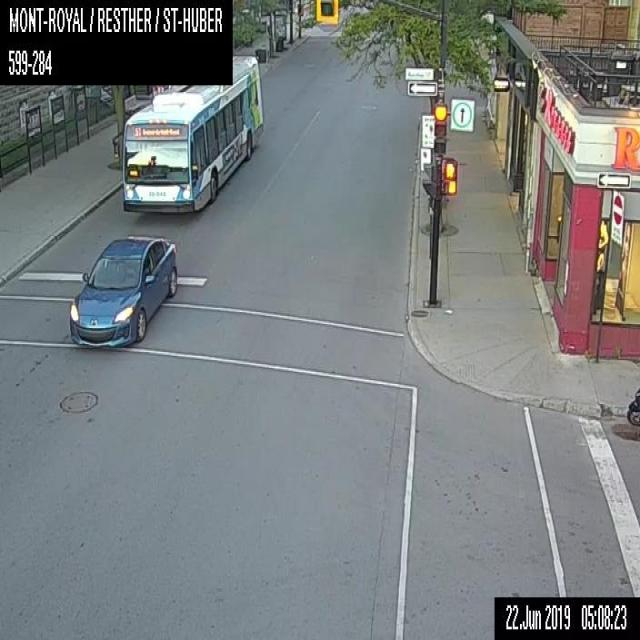bus: (111, 53, 263, 212)
vehicle: (68, 235, 176, 348)
